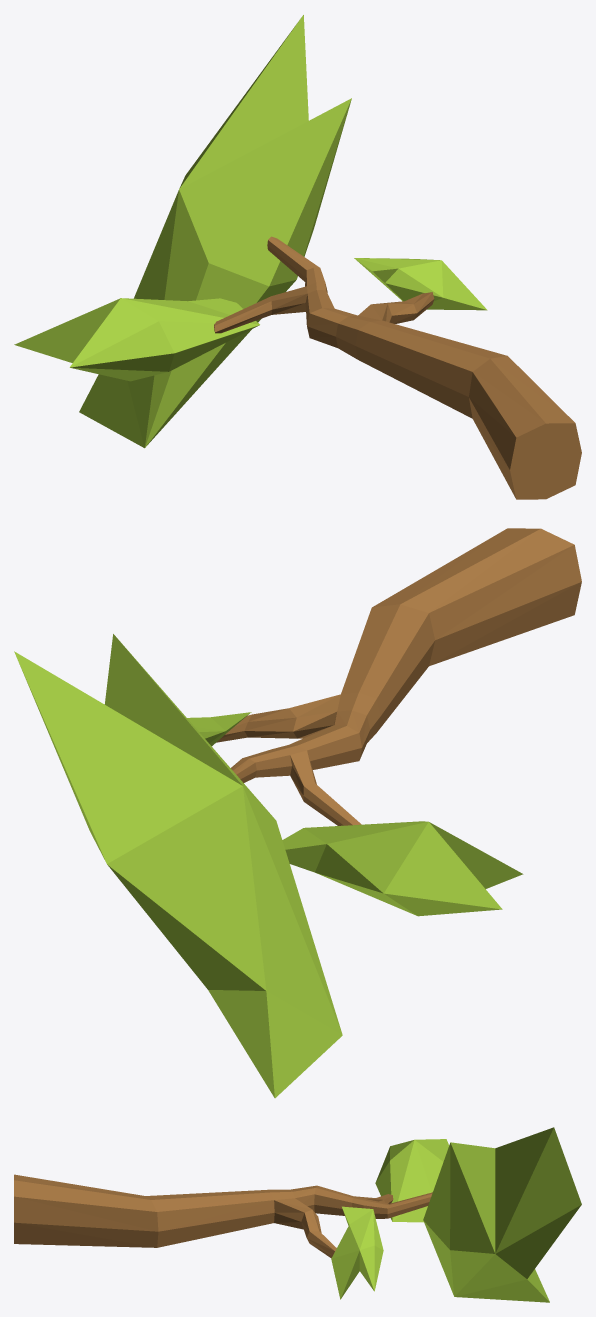
The model's file is tree3.dae.
3 views of the same model, one above another, from view 1: azimuth 30°, elevation 25°; view 2: azimuth 150°, elevation 25°; view 3: azimuth 270°, elevation 25° (orthographic). The views are drawn at different scales.
Parts seen in each view (by area): view 1: Green, Brown; view 2: Green, Brown; view 3: Green, Brown.
Part boxes in pixels (left/top/right/bottom): Green: left=14, top=15, right=487, bottom=448; Brown: left=214, top=236, right=581, bottom=499; Green: left=14, top=634, right=523, bottom=1098; Brown: left=216, top=528, right=581, bottom=825; Green: left=331, top=1127, right=581, bottom=1302; Brown: left=14, top=1174, right=432, bottom=1258.
Size of the model in its own units: 0.5686 by 0.9048 by 0.4576.
